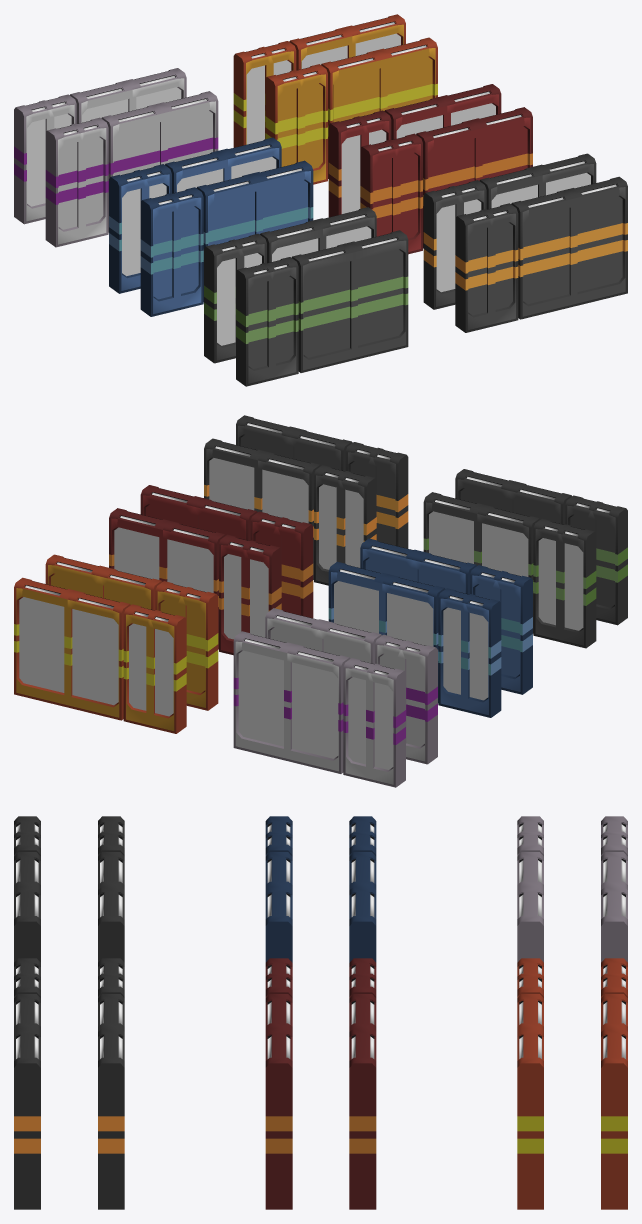
File: ClassicAirlocks.fbx
3 renders of one model, top to bottom at view 1: azimuth 30°, elevation 25°; view 2: azimuth 150°, elevation 25°; view 3: azimuth 270°, elevation 25°, orthographic. The views are drawn at different scales.
Parts seen in each view (by area): view 1: ClassicAirlockDoubleMaintenanceLeft, ClassicAirlockCivilianDoubleLeft, ClassicAirlockCivilianDoubleRight, ClassicAirlockDoubleMaintenanceRight, ClassicAirlockScienceLeft, ClassicAirlockCommandLeft, ClassicAirlockCivilianLeft, ClassicAirlockMaintenanceLeft, ClassicAirlockMaintenanceGlassLeft, ClassicAirlockCivilianGlassLeft, ClassicAirlockCommandGlassLeft, ClassicAirlockScienceGlassLeft (+36 smaller); view 2: ClassicAirlockDoubleEngineeringGlassLeft, ClassicAirlockDoubleScienceGlassLeft, ClassicAirlockDoubleScienceGlassRight, ClassicAirlockDoubleEngineeringGlassRight, ClassicAirlockCivilianGlassLeft, ClassicAirlockCommandGlassLeft, ClassicAirlockScienceGlassLeft, ClassicAirlockEngineeringGlassLeft, ClassicAirlockEngineeringLeft, ClassicAirlockCommandLeft, ClassicAirlockScienceLeft, ClassicAirlockCivilianLeft (+36 smaller); view 3: ClassicAirlockSecurityDoubleRight, ClassicAirlockDoubleSecurityGlassRight, ClassicAirlockDoubleMaintenanceRight, ClassicAirlockDoubleMaintenanceGlassRight, ClassicAirlockEngineeringDoubleRight, ClassicAirlockDoubleEngineeringGlassRight, ClassicAirlockCommandDoubleRight, ClassicAirlockDoubleCommandGlassRight, ClassicAirlockCivilianDoubleRight, ClassicAirlockDoubleScienceGlassRight, ClassicAirlockDoubleCivilianGlassRight, ClassicAirlockScienceDoubleRight (+16 smaller).
Part boxes in pixels (box(x1,y1,x2,y2)): ClassicAirlockDoubleMaintenanceLeft: box(511, 190, 574, 319); ClassicAirlockCivilianDoubleLeft: box(291, 243, 354, 372); ClassicAirlockCivilianDoubleRight: box(346, 230, 408, 359); ClassicAirlockDoubleMaintenanceRight: box(566, 176, 627, 306); ClassicAirlockScienceLeft: box(45, 124, 82, 247); ClassicAirlockCommandLeft: box(140, 193, 177, 316); ClassicAirlockCivilianLeft: box(236, 263, 272, 386); ClassicAirlockMaintenanceLeft: box(455, 209, 491, 332); ClassicAirlockMaintenanceGlassLeft: box(423, 186, 460, 309); ClassicAirlockCivilianGlassLeft: box(204, 240, 240, 363); ClassicAirlockCommandGlassLeft: box(109, 170, 145, 293); ClassicAirlockScienceGlassLeft: box(14, 101, 50, 224); ClassicAirlockDoubleEngineeringGlassLeft: box(67, 591, 130, 720); ClassicAirlockDoubleScienceGlassLeft: box(287, 644, 350, 773); ClassicAirlockDoubleScienceGlassRight: box(233, 631, 295, 760); ClassicAirlockDoubleEngineeringGlassRight: box(14, 577, 75, 707); ClassicAirlockCivilianGlassLeft: box(559, 525, 596, 648); ClassicAirlockCommandGlassLeft: box(464, 594, 501, 717); ClassicAirlockScienceGlassLeft: box(369, 664, 405, 787); ClassicAirlockEngineeringGlassLeft: box(150, 610, 186, 733); ClassicAirlockEngineeringLeft: box(181, 587, 218, 710); ClassicAirlockCommandLeft: box(496, 571, 532, 694); ClassicAirlockScienceLeft: box(401, 641, 437, 764); ClassicAirlockCivilianLeft: box(591, 502, 627, 625); ClassicAirlockSecurityDoubleRight: box(265, 1028, 292, 1209); ClassicAirlockDoubleSecurityGlassRight: box(349, 1028, 376, 1209); ClassicAirlockDoubleMaintenanceRight: box(14, 1028, 40, 1209); ClassicAirlockDoubleMaintenanceGlassRight: box(98, 1028, 124, 1209); ClassicAirlockEngineeringDoubleRight: box(517, 1028, 543, 1209); ClassicAirlockDoubleEngineeringGlassRight: box(601, 1028, 627, 1209); ClassicAirlockCommandDoubleRight: box(265, 887, 292, 962); ClassicAirlockDoubleCommandGlassRight: box(349, 887, 376, 962); ClassicAirlockCivilianDoubleRight: box(14, 887, 40, 962); ClassicAirlockDoubleScienceGlassRight: box(601, 887, 627, 962); ClassicAirlockDoubleCivilianGlassRight: box(98, 887, 124, 962); ClassicAirlockScienceDoubleRight: box(517, 887, 543, 962).
Bounding box in the file's own units: 6.96 × 1.93 × 7.32.
